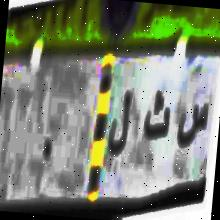0: (38, 124, 58, 174)
laam: (102, 86, 135, 170)
seen: (174, 92, 212, 158)
thaa: (142, 85, 172, 150)
